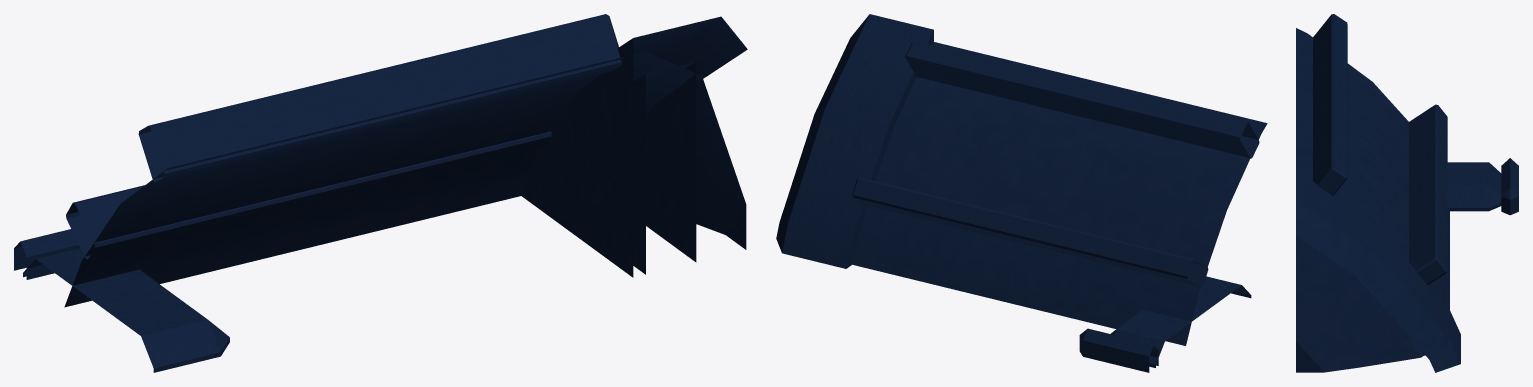
The model's file is cell_54.obj.
The picture shows the model from 3 angles, left to right: view 1: azimuth 30°, elevation 25°; view 2: azimuth 150°, elevation 25°; view 3: azimuth 270°, elevation 25°; orthographic projection. The views are drawn at different scales.
Visible parts, largest first — view 1: cell_54; view 2: cell_54; view 3: cell_54.
Part boxes in pixels (x1,y1,x2,y2): cell_54: (14, 14, 747, 372); cell_54: (776, 14, 1267, 372); cell_54: (1296, 14, 1518, 372).
Size of the model in its own units: 1 by 0.407 by 0.4912.
